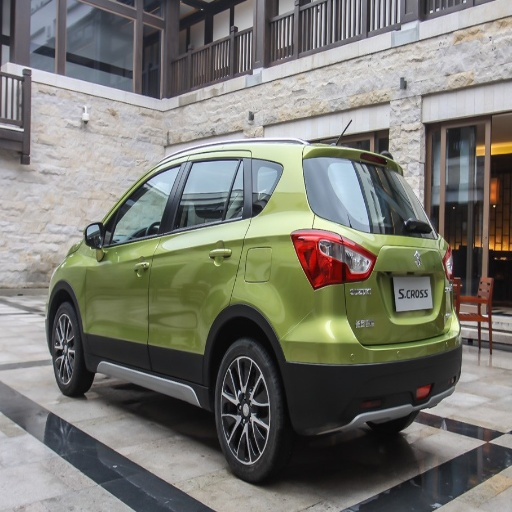back_bumper: (278, 286, 461, 439)
back_glass: (308, 159, 431, 232)
back_left_door: (151, 154, 248, 383)
